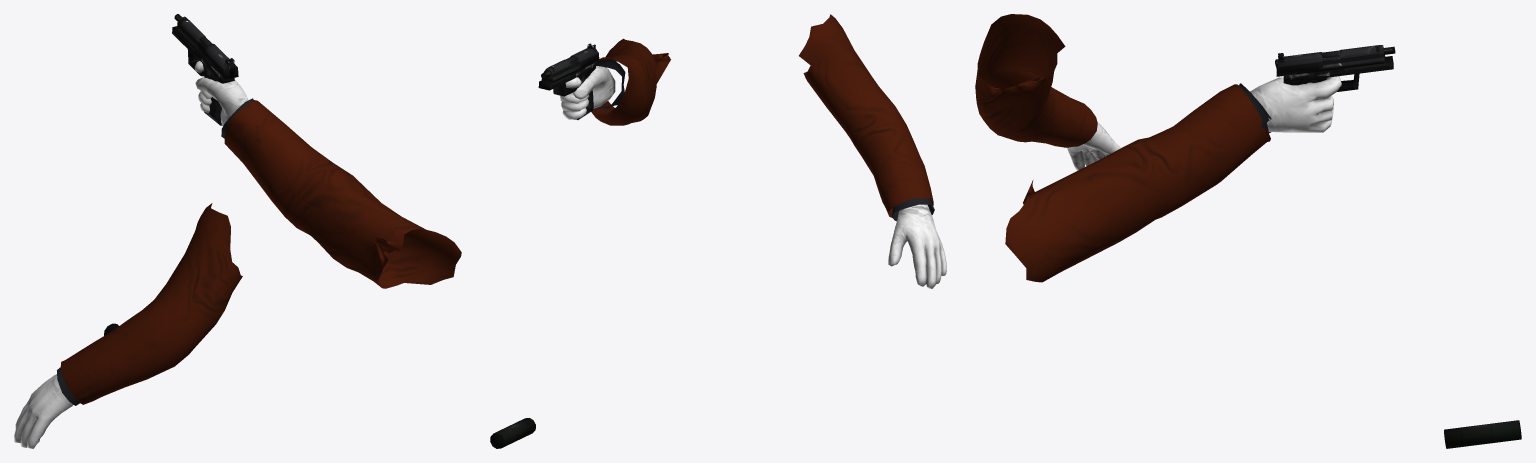
The model's file is frame_0005.obj.
3 views of the same model, side by side, from view 1: azimuth 30°, elevation 25°; view 2: azimuth 150°, elevation 25°; view 3: azimuth 270°, elevation 25° (orthographic). The views are drawn at different scales.
Parts seen in each view (by area): view 1: PlayerModelMerged.001_PlayerModelMerged, glock_reference.001; view 2: PlayerModelMerged.001_PlayerModelMerged, glock_reference.001; view 3: PlayerModelMerged.001_PlayerModelMerged, glock_reference.001.
Part boxes in pixels (bbox=[...]): PlayerModelMerged.001_PlayerModelMerged: bbox=[14, 61, 461, 448]; glock_reference.001: bbox=[104, 14, 238, 335]; PlayerModelMerged.001_PlayerModelMerged: bbox=[560, 14, 946, 288]; glock_reference.001: bbox=[490, 43, 599, 448]; PlayerModelMerged.001_PlayerModelMerged: bbox=[975, 14, 1341, 282]; glock_reference.001: bbox=[1275, 45, 1521, 448].
Size of the model in its own units: 1.15 by 1.03 by 1.25.
